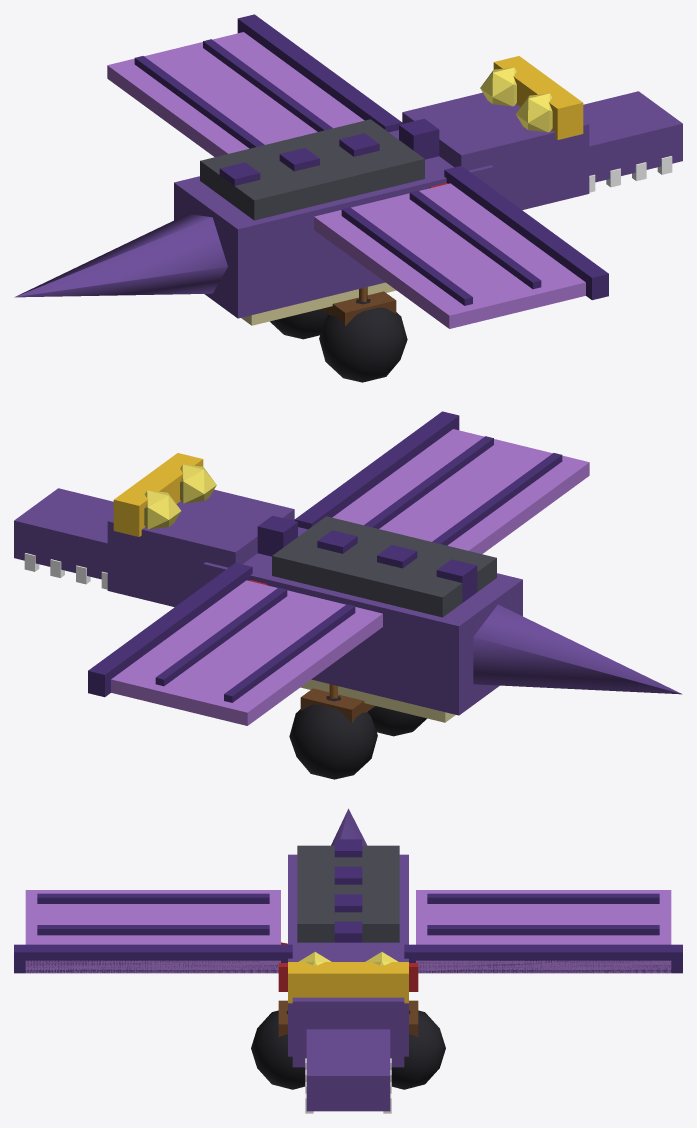
File: level2.glb
3 renders of one model, top to bottom at view 1: azimuth 30°, elevation 25°; view 2: azimuth 150°, elevation 25°; view 3: azimuth 270°, elevation 25°, orthographic. The views are drawn at different scales.
Visible parts, largest first — view 1: wingL, wingR, object 1, object 32, object 3, object 17, object 4, object 26, object 29, object 2, object 18, object 7 (+6 smaller); view 2: wingR, wingL, object 1, object 3, object 32, object 17, object 4, object 24, object 29, object 2, object 18, object 5 (+6 smaller); view 3: wingL, wingR, object 32, object 4, object 3, object 29, object 24, object 26, object 1, object 28, object 18, object 30 (+4 smaller).
Boxes of the visible parts, x1,y1,x2,y2 form: wingL: (314,165,608,328); wingR: (107,14,402,156); object 1: (174,130,493,318); object 32: (200,119,424,220); object 3: (402,92,589,210); object 17: (14,214,227,297); object 4: (583,91,682,182); object 26: (319,299,407,382); object 29: (493,56,583,139); object 2: (241,282,396,325); object 18: (399,118,439,159); object 7: (516,93,552,132); wingR: (88,562,382,725); wingL: (294,411,589,553); object 1: (203,527,522,715); object 3: (107,489,294,607); object 32: (272,516,496,617); object 17: (473,604,682,694); object 4: (14,488,113,579); object 24: (289,696,377,779); object 29: (113,453,203,536); object 2: (300,679,455,722); object 18: (257,515,297,556); object 5: (144,490,180,529); wingL: (14,890,292,973); wingR: (404,890,682,973); object 32: (297,845,399,942); object 4: (306,1029,390,1111); object 3: (292,942,404,1067); object 29: (288,962,408,1003); object 24: (391,1010,445,1089); object 26: (251,1010,305,1089); object 1: (288,854,408,1056); object 28: (278,1000,418,1036); object 18: (334,921,362,942); object 30: (278,963,418,991).
Bounding box in the file's own units: 1.85 × 0.6257 × 1.76.
